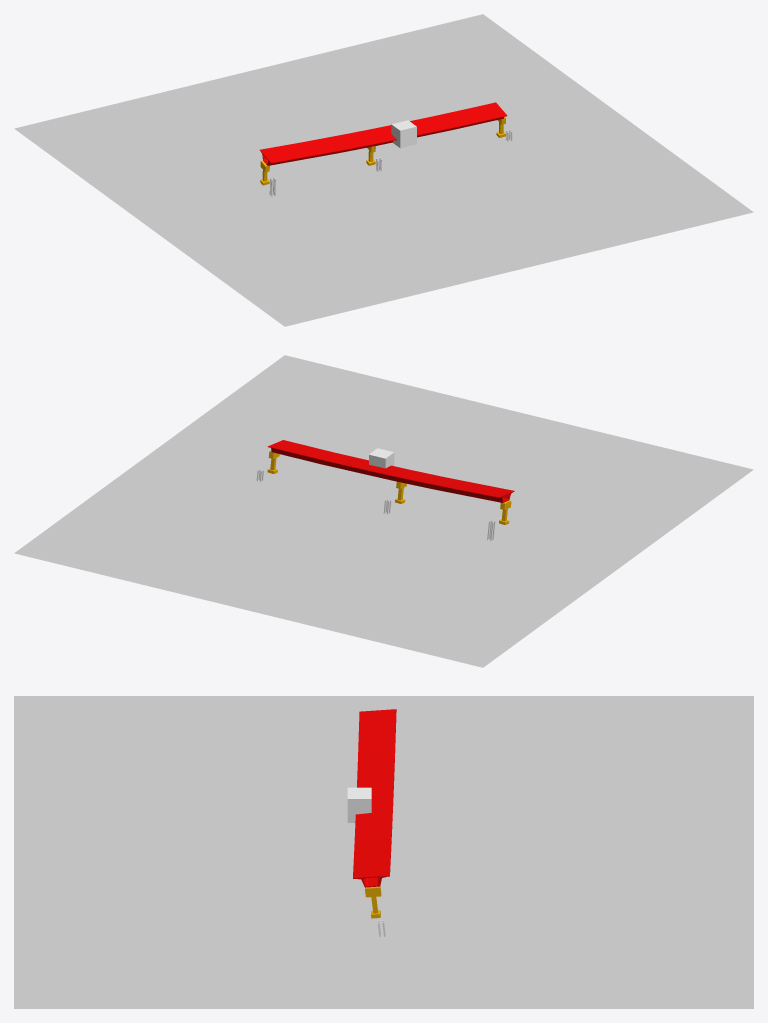
File: modifiedLianXu2.gltf
3 renders of one model, top to bottom at view 1: azimuth 30°, elevation 25°; view 2: azimuth 150°, elevation 25°; view 3: azimuth 270°, elevation 25°, orthographic. The views are drawn at different scales.
Visible parts, largest first — view 1: Plane, Default, Box; view 2: Plane, Default; view 3: Plane, Default, Box.
Part boxes in pixels (left/top/right/bottom): Plane: left=14, top=14, right=753, bottom=326; Default: left=260, top=102, right=507, bottom=185; Box: left=391, top=120, right=416, bottom=148; Plane: left=14, top=355, right=753, bottom=667; Default: left=267, top=440, right=514, bottom=524; Plane: left=14, top=696, right=753, bottom=1008; Default: left=353, top=709, right=396, bottom=918; Box: left=347, top=787, right=371, bottom=822.
Size of the model in its own units: 75 by 9.69 by 75.
